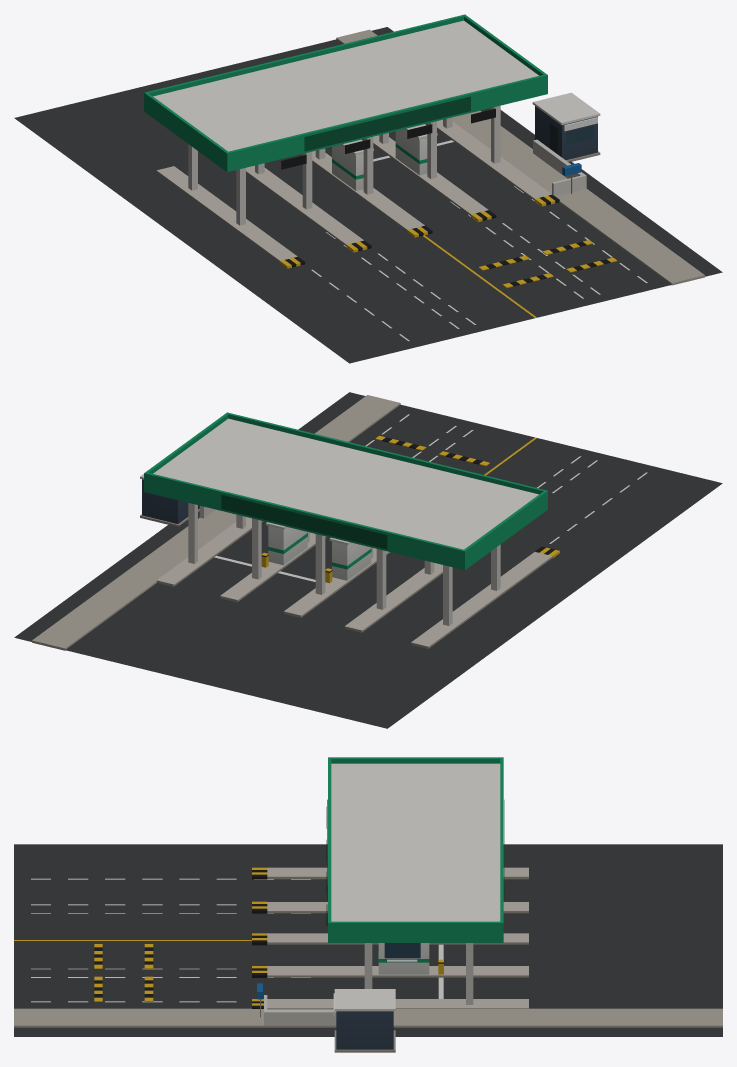
File: ns_airtoll_lod1.glb
3 renders of one model, top to bottom at view 1: azimuth 30°, elevation 25°; view 2: azimuth 150°, elevation 25°; view 3: azimuth 270°, elevation 25°, orthographic. The views are drawn at different scales.
Visible parts, largest first — view 1: ns_airtoll_lod1; view 2: ns_airtoll_lod1; view 3: ns_airtoll_lod1.
Part boxes in pixels (<box>): ns_airtoll_lod1: <box>14,14,722,363</box>; ns_airtoll_lod1: <box>14,392,722,728</box>; ns_airtoll_lod1: <box>14,757,722,1052</box>.
Size of the model in its own units: 29.1 by 6.6 by 42.
